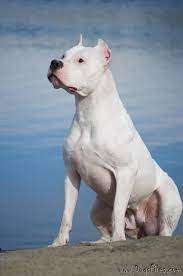dog: (38, 31, 183, 246)
